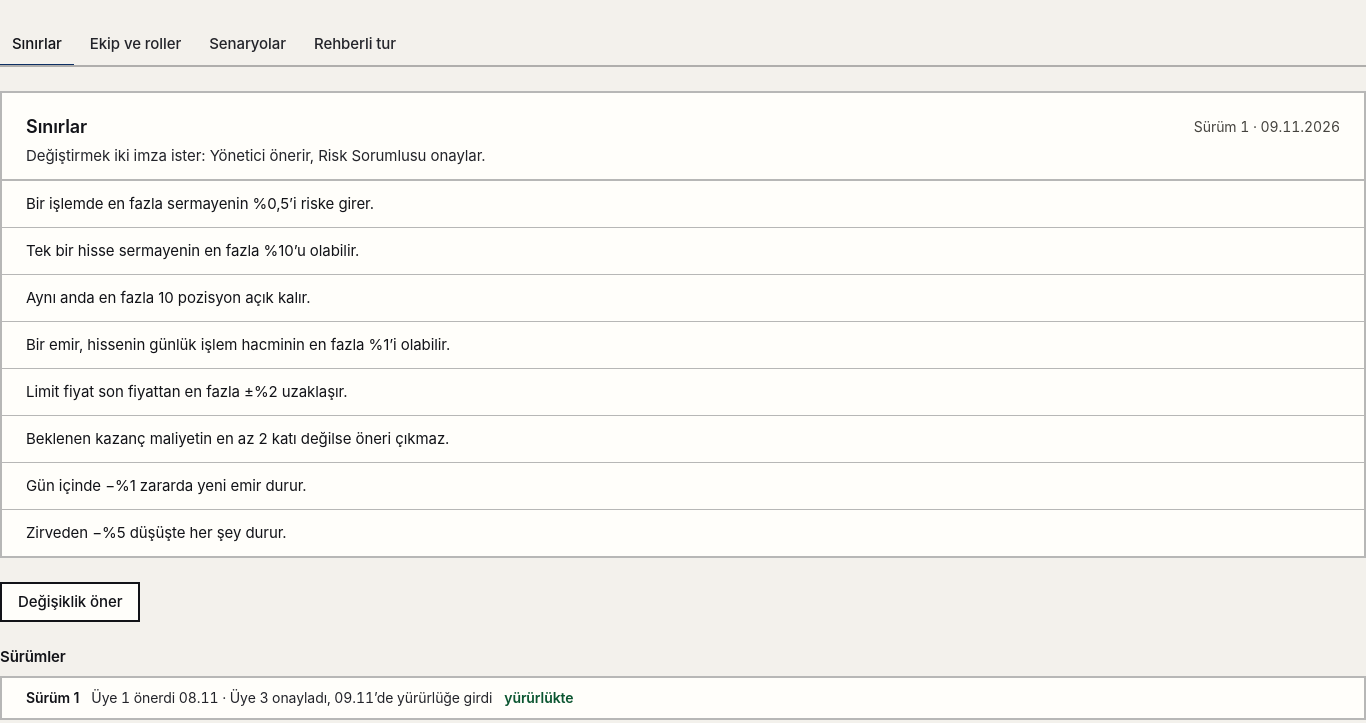
Ayarlar · ekip ve demo › says what is missing when the limit form is sent too early, and counts the reason
Click the button "Değişiklik öner": click(70, 602) x1=0 y1=582 x2=140 y2=622
(page scrolled)
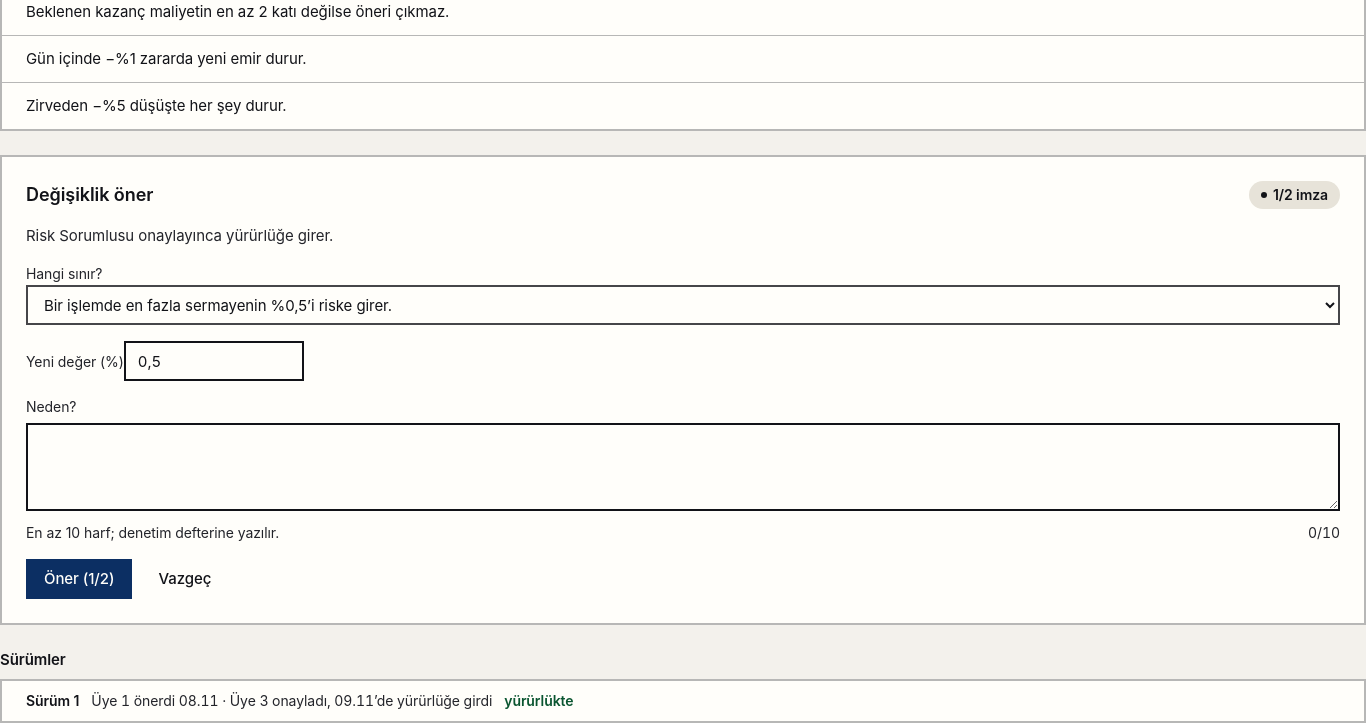
Click the button "Öner (1/2)": click(79, 579) x1=26 y1=559 x2=132 y2=599
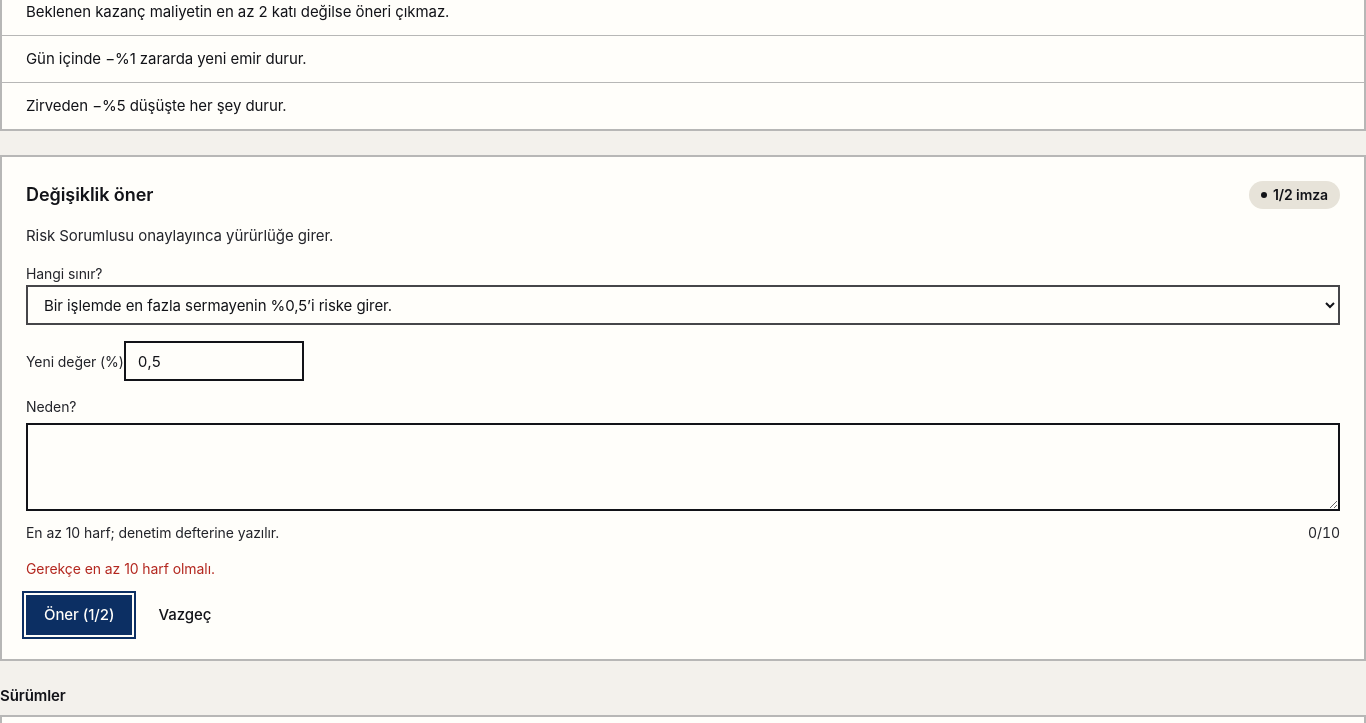
Expected: the message reads "Gerekçe en az 10 harf olmalı.", x1=26 y1=560 x2=215 y2=577
In the text box labelled "Neden?": (683, 467) x1=26 y1=423 x2=1340 y2=511, type "Kısa"
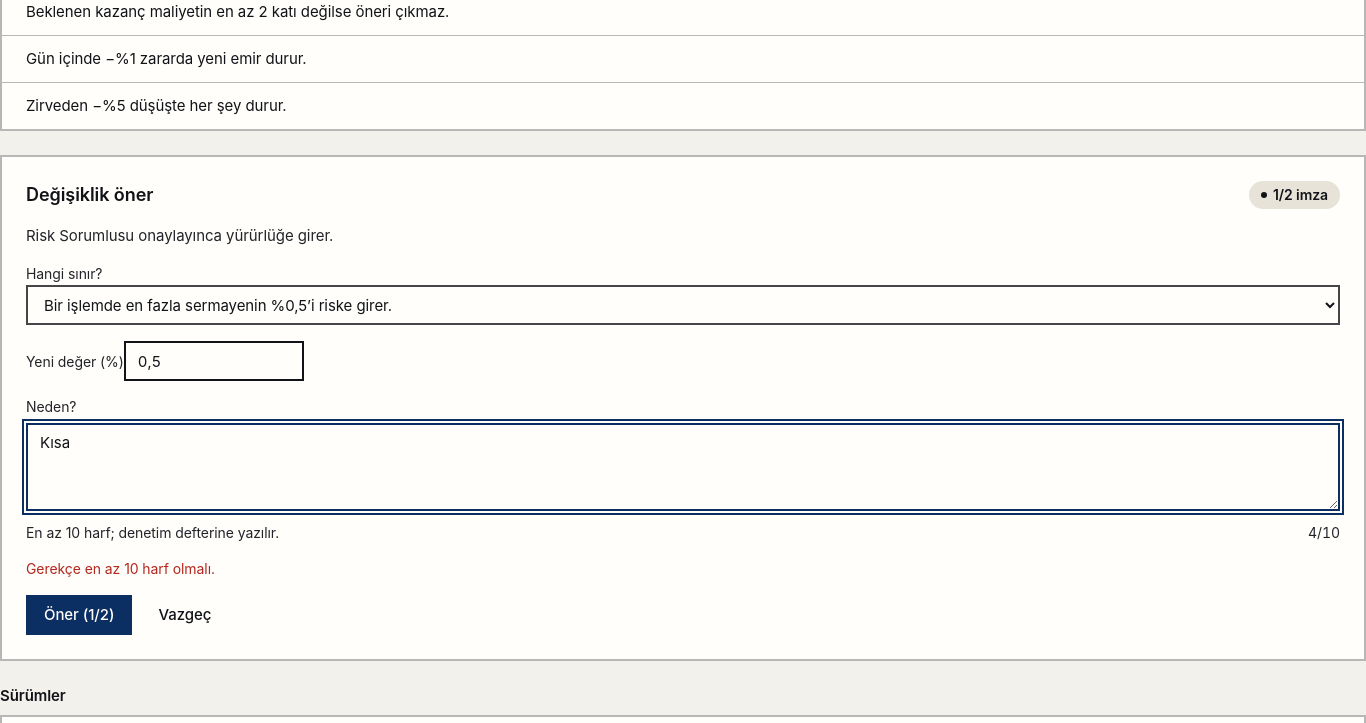
Expected: the text "4/10" is shown, x1=1308 y1=523 x2=1340 y2=543
